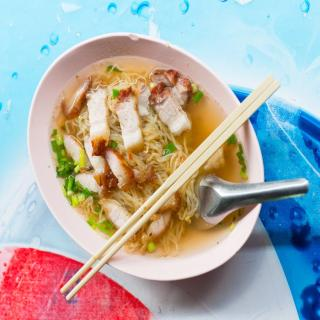carbs: (142, 132, 181, 184), (181, 187, 198, 220), (128, 190, 144, 210)
meat: (151, 72, 191, 134), (66, 138, 105, 191), (118, 90, 146, 152), (86, 88, 111, 154), (107, 151, 135, 190), (66, 83, 90, 117), (102, 200, 128, 227), (146, 212, 167, 242)
noodles: (50, 69, 203, 252)
veg: (52, 132, 74, 204)
